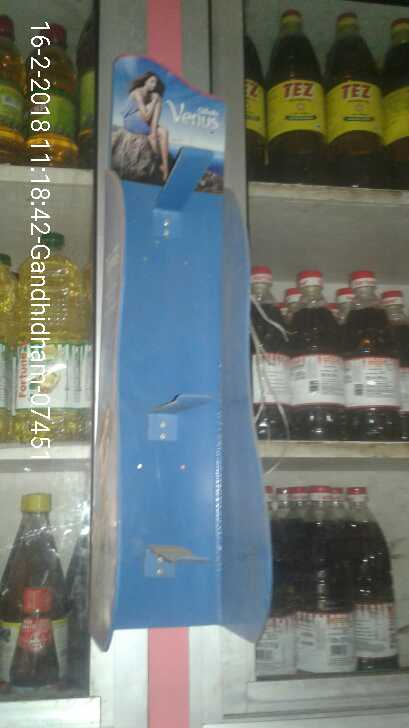reject: (152, 341, 238, 454)
